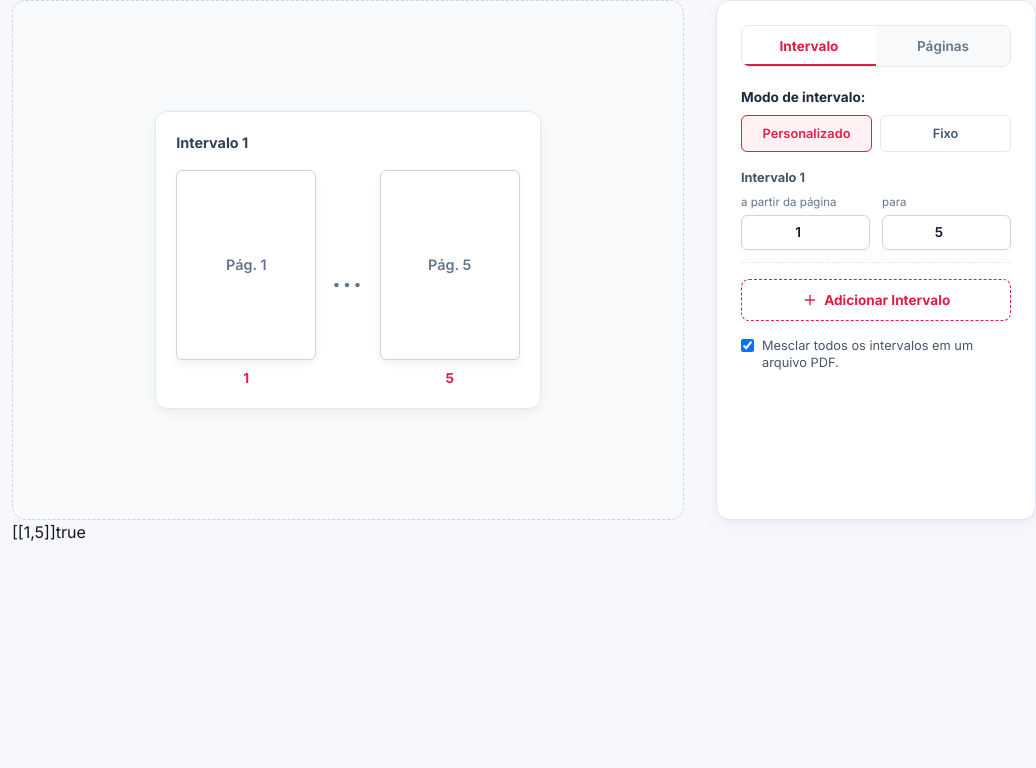
Test: SplitPdfPanel › desativa a junção oculta para produzir arquivos separados no modo fixo
The width and height of the screenshot is (1036, 768).
What coordinates should you click on to do the following:
click the button "Fixo"
I would click on:
 (946, 134)
Its box is [880, 115, 1011, 152].
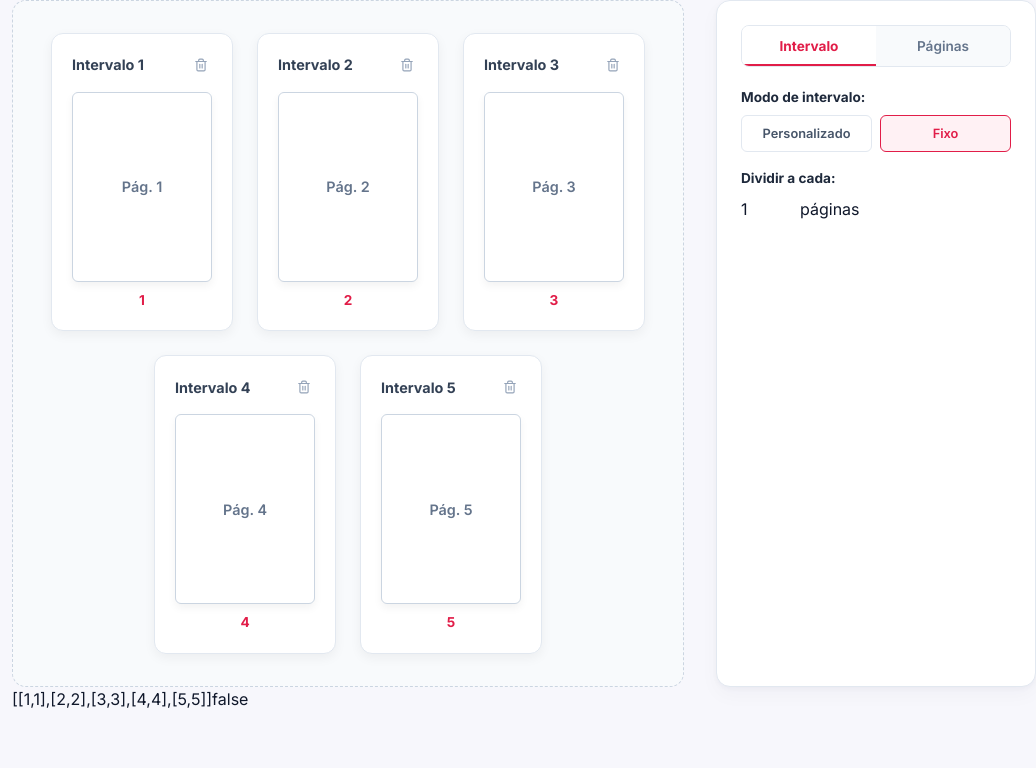
Result: the text named "Mesclar intervalos" reads "false" at [212, 689, 248, 709]
